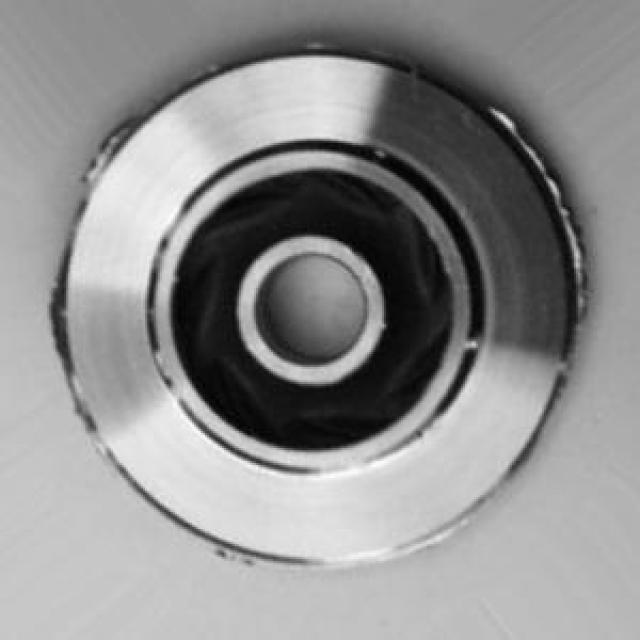Defect: (491, 107, 559, 179)
